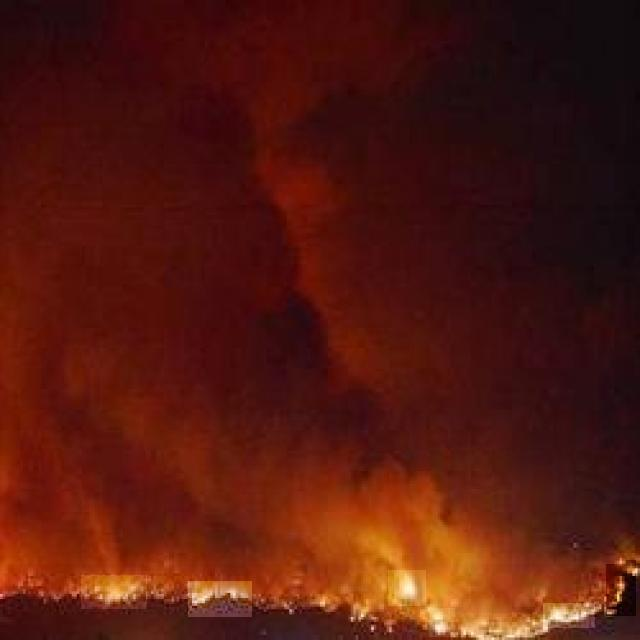Fire: (188, 582, 252, 618), (81, 575, 147, 609), (462, 613, 535, 640), (606, 560, 636, 616), (388, 570, 426, 606), (543, 603, 595, 628), (429, 608, 455, 637)
Smoke: (3, 0, 626, 564)
